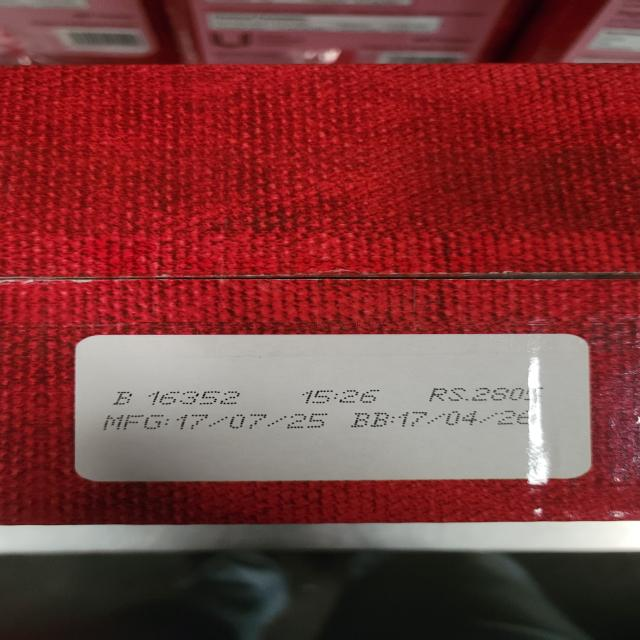BB: (350, 410, 534, 428)
Batch: (113, 390, 242, 406)
MFG: (100, 411, 330, 432)
RS: (427, 387, 543, 403)
TimeStamp: (304, 388, 382, 404)
